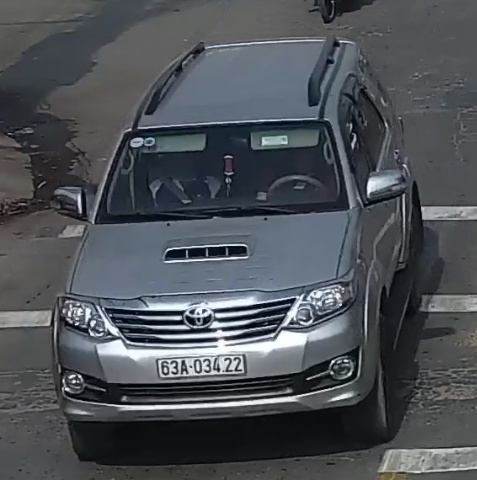vehicle plate: (156, 349, 251, 382)
